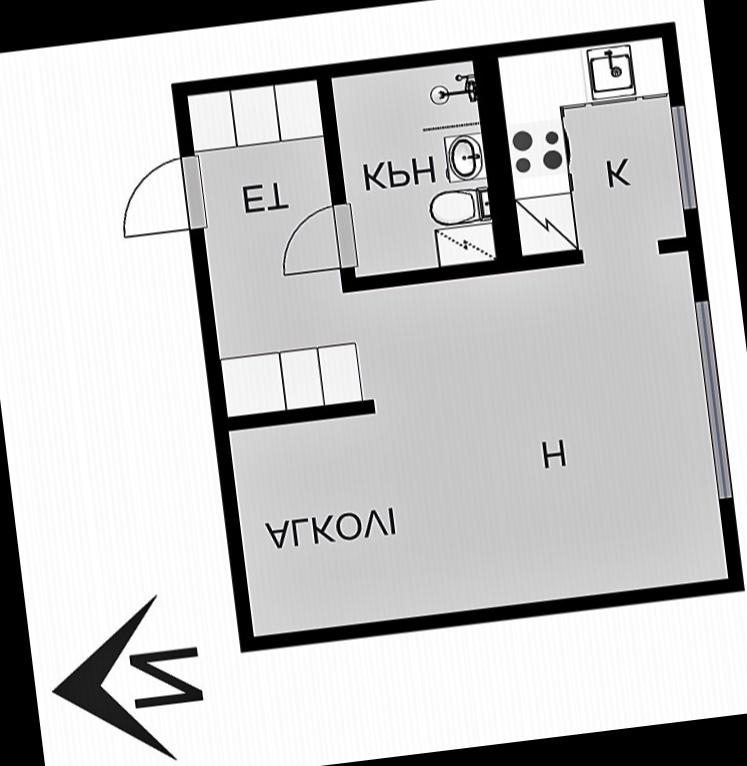door: (111, 150, 208, 241), (270, 200, 361, 279)
window: (684, 290, 738, 512), (664, 96, 702, 218)
